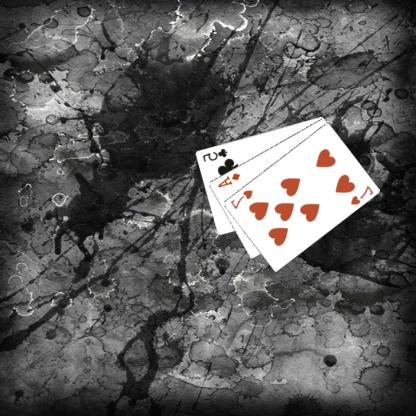5C: (201, 146, 230, 162)
7H: (350, 183, 376, 206), (229, 188, 256, 210)
AD: (217, 170, 243, 189)
